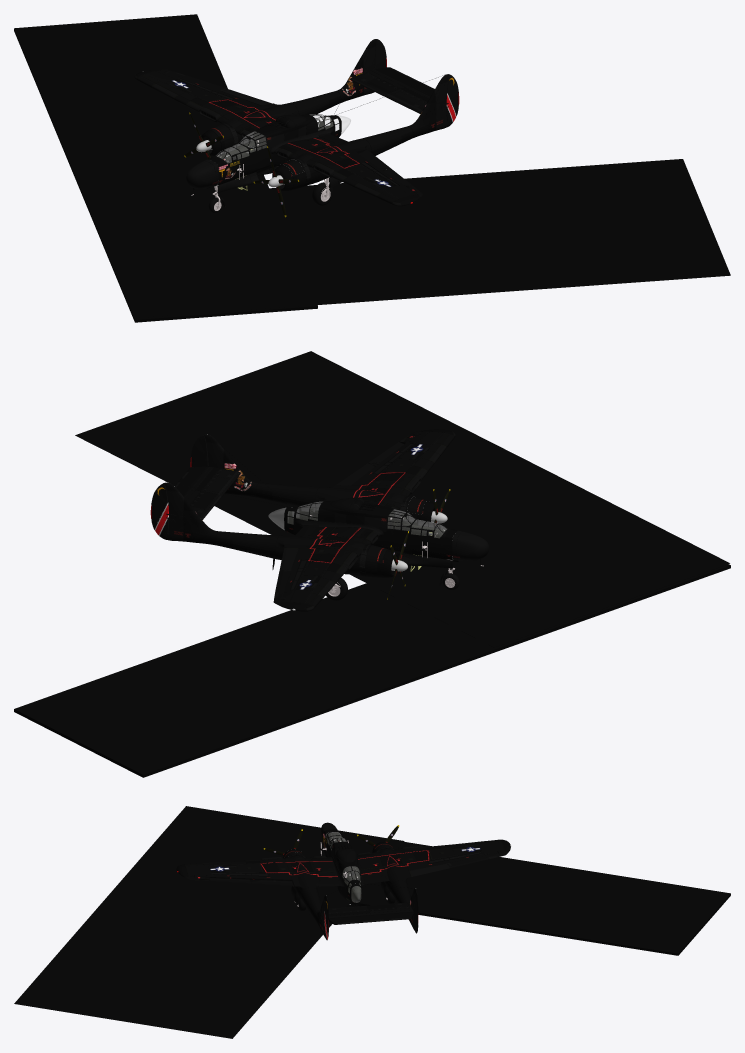
Rendered from only_P61_HKG.obj.
3 renders of one model, top to bottom at view 1: azimuth 30°, elevation 25°; view 2: azimuth 150°, elevation 25°; view 3: azimuth 270°, elevation 25°, orthographic. The views are drawn at different scales.
Visible parts, largest first — view 1: Cube.007, Cube.008, P61Lwing.003, P61Rwing.003, P61MAIN.008, P61Lboom.005, P61Rboom.003, P61Estab.002, P61Radom.001, P61Glas1.002, P61Inter.002, P61Estfl.003 (+1 smaller); view 2: Cube.007, Cube.008, P61Rwing.003, P61Rboom.004, P61Lwing.003, P61MAIN.009, P61Lboom.004, P61Estab.002, P61Glas1.002, P61Radom.001, P61Rrudd.002, P61Inter.002 (+1 smaller); view 3: Cube.007, Cube.008, P61Rwing.003, P61Lwing.003, P61Estab.002, P61MAIN.008, P61Lboom.005, P61Estfl.003, P61Inter.002, P61Rboom.003, P61RFla3.003, P61LFla3.003.
Part boxes in pixels (left/top/right/bottom): Cube.007: left=87, top=159, right=730, bottom=317; Cube.008: left=14, top=14, right=317, bottom=322; P61Lwing.003: left=274, top=136, right=419, bottom=205; P61Rwing.003: left=134, top=69, right=292, bottom=140; P61MAIN.008: left=213, top=114, right=341, bottom=185; P61Lboom.005: left=278, top=74, right=449, bottom=191; P61Rboom.003: left=206, top=39, right=377, bottom=155; P61Estab.002: left=350, top=69, right=430, bottom=113; P61Radom.001: left=186, top=159, right=218, bottom=193; P61Glas1.002: left=216, top=114, right=350, bottom=162; P61Inter.002: left=217, top=116, right=339, bottom=166; P61Estfl.003: left=375, top=67, right=434, bottom=96; Cube.007: left=75, top=351, right=729, bottom=647; Cube.008: left=14, top=564, right=730, bottom=777; P61Rwing.003: left=278, top=527, right=379, bottom=610; P61Rboom.004: left=164, top=482, right=394, bottom=577; P61Lwing.003: left=324, top=429, right=455, bottom=512; P61MAIN.009: left=284, top=503, right=454, bottom=559; P61Lboom.004: left=203, top=434, right=434, bottom=526; P61Estab.002: left=184, top=467, right=240, bottom=519; P61Glas1.002: left=268, top=503, right=446, bottom=537; P61Radom.001: left=452, top=530, right=488, bottom=564; P61Rrudd.002: left=151, top=484, right=168, bottom=539; P61Inter.002: left=287, top=506, right=453, bottom=560; Cube.007: left=14, top=806, right=404, bottom=1038; Cube.008: left=350, top=842, right=730, bottom=955; P61Rwing.003: left=357, top=839, right=510, bottom=880; P61Lwing.003: left=176, top=856, right=338, bottom=886; P61Estab.002: left=328, top=902, right=413, bottom=918; P61MAIN.008: left=320, top=829, right=356, bottom=900; P61Lboom.005: left=283, top=849, right=326, bottom=937; P61Estfl.003: left=329, top=912, right=413, bottom=924; P61Inter.002: left=325, top=832, right=361, bottom=902; P61Rboom.003: left=372, top=842, right=416, bottom=930; P61RFla3.003: left=409, top=855, right=487, bottom=877; P61LFla3.003: left=209, top=877, right=294, bottom=886.
Size of the model in its own units: 31.58 by 4.78 by 41.36.
